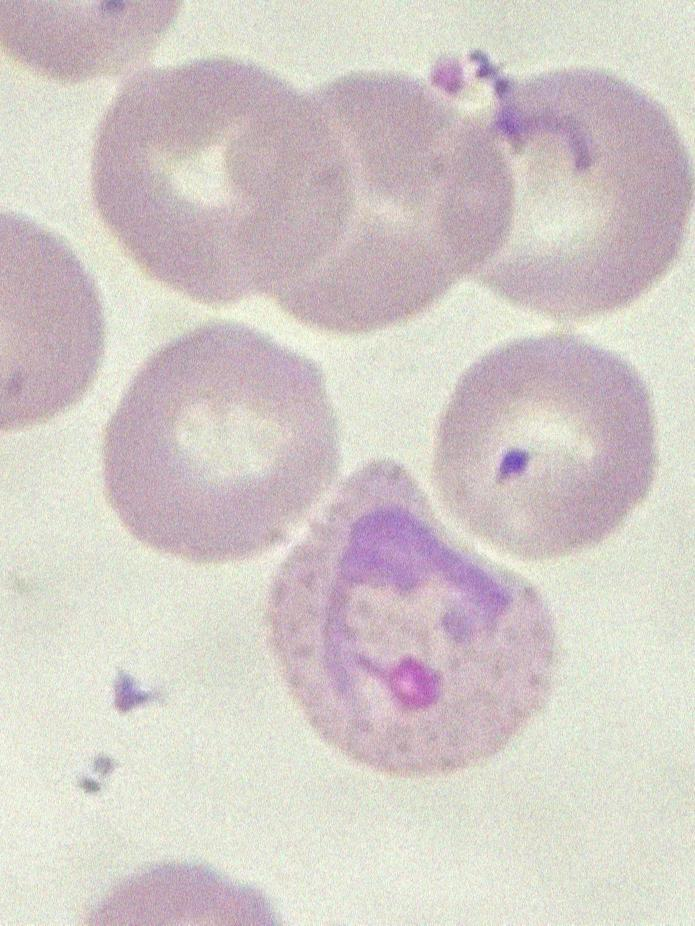Infected: (270, 451, 561, 779)
Uninfected: (256, 69, 516, 336), (432, 67, 688, 322), (96, 55, 340, 308), (104, 317, 335, 558), (444, 337, 657, 550)
